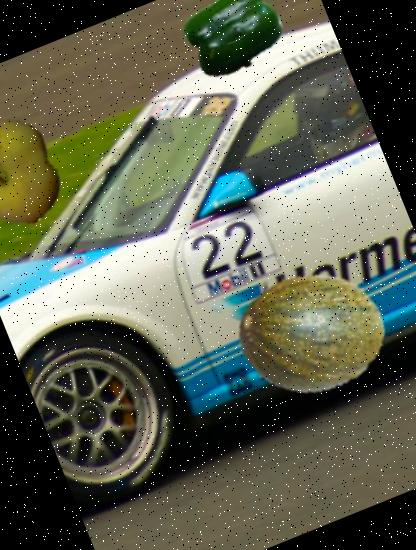Melon: (220, 242, 400, 422)
Peach: (0, 101, 83, 243)
Pepper: (168, 0, 297, 94)
